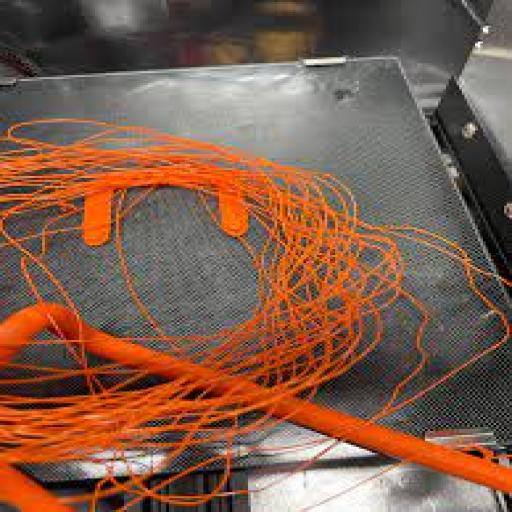spaghetti: (14, 108, 399, 500)
